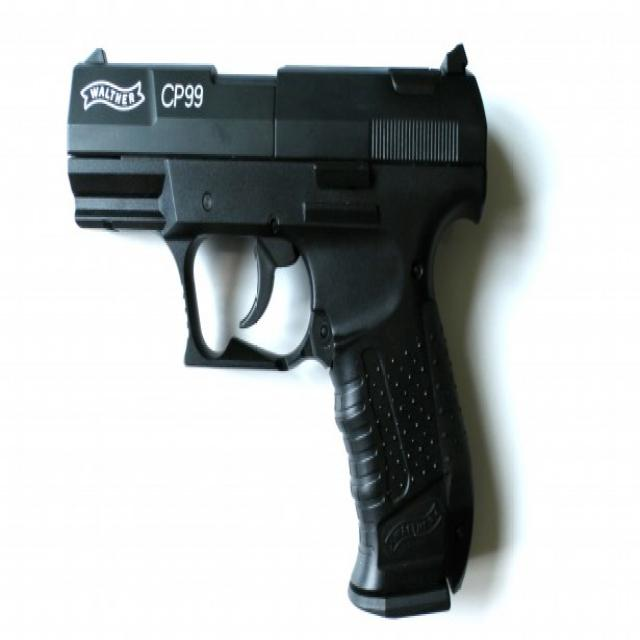gun: (67, 47, 489, 619)
